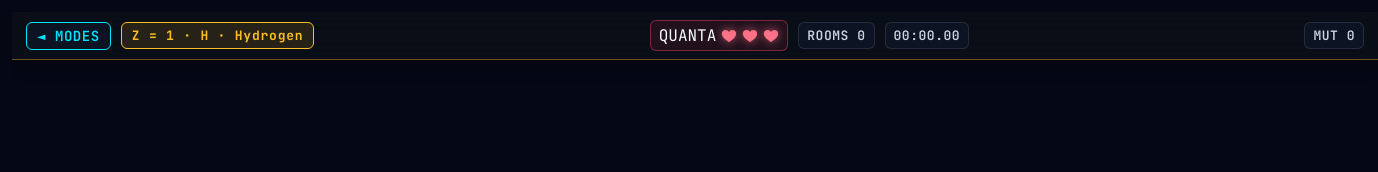
Test: AcceleratorMode UI (Spec-03) › navigates back to /modes from HUD exit button
The image size is (1378, 172).
Click the button with test id "accelerator-exit-btn" at (68, 36), box x1=26 y1=22 x2=111 y2=50
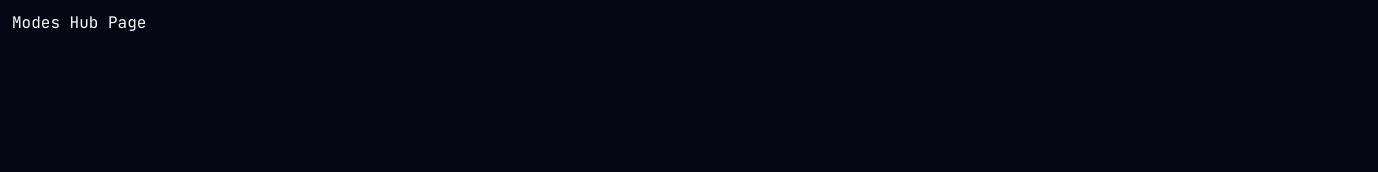
Check: the text "Modes Hub Page" is shown, box x1=12 y1=12 x2=146 y2=33
